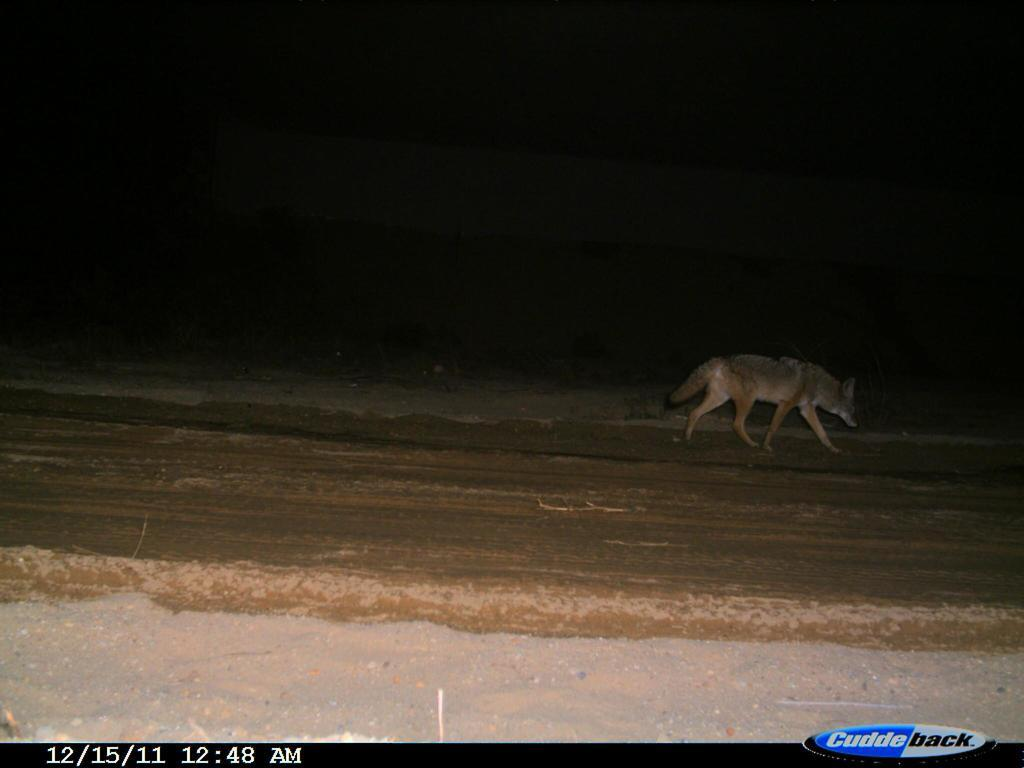coyote: (660, 344, 866, 473)
